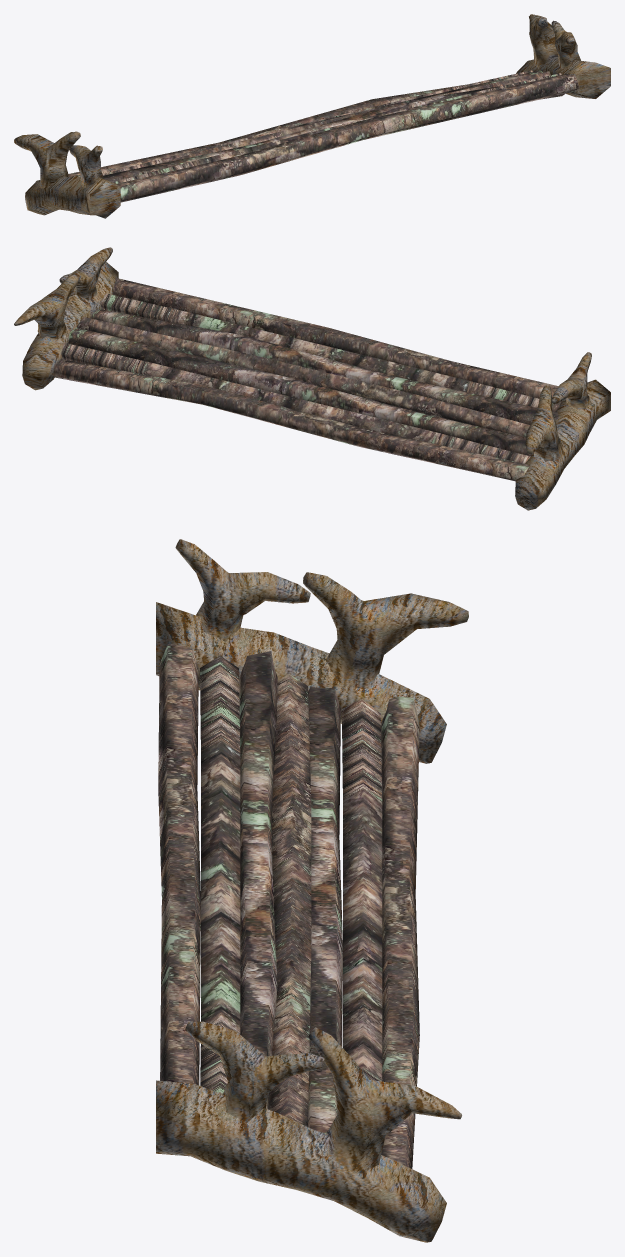
File: mdl_WoodBridge_endpoint.fbx
3 renders of one model, top to bottom at view 1: azimuth 30°, elevation 25°; view 2: azimuth 150°, elevation 25°; view 3: azimuth 270°, elevation 25°, orthographic. The views are drawn at different scales.
Parts seen in each view (by area): view 1: Cylinder.001; view 2: Cylinder.001; view 3: Cylinder.001.
Boxes of the visible parts, x1=… form: Cylinder.001: x1=14, y1=14, x2=610, y2=218; Cylinder.001: x1=14, y1=247, x2=610, y2=510; Cylinder.001: x1=156, y1=539, x2=468, y2=1242.
Size of the model in its own units: 907 by 187 by 236.
3 materials, 3 textured.
